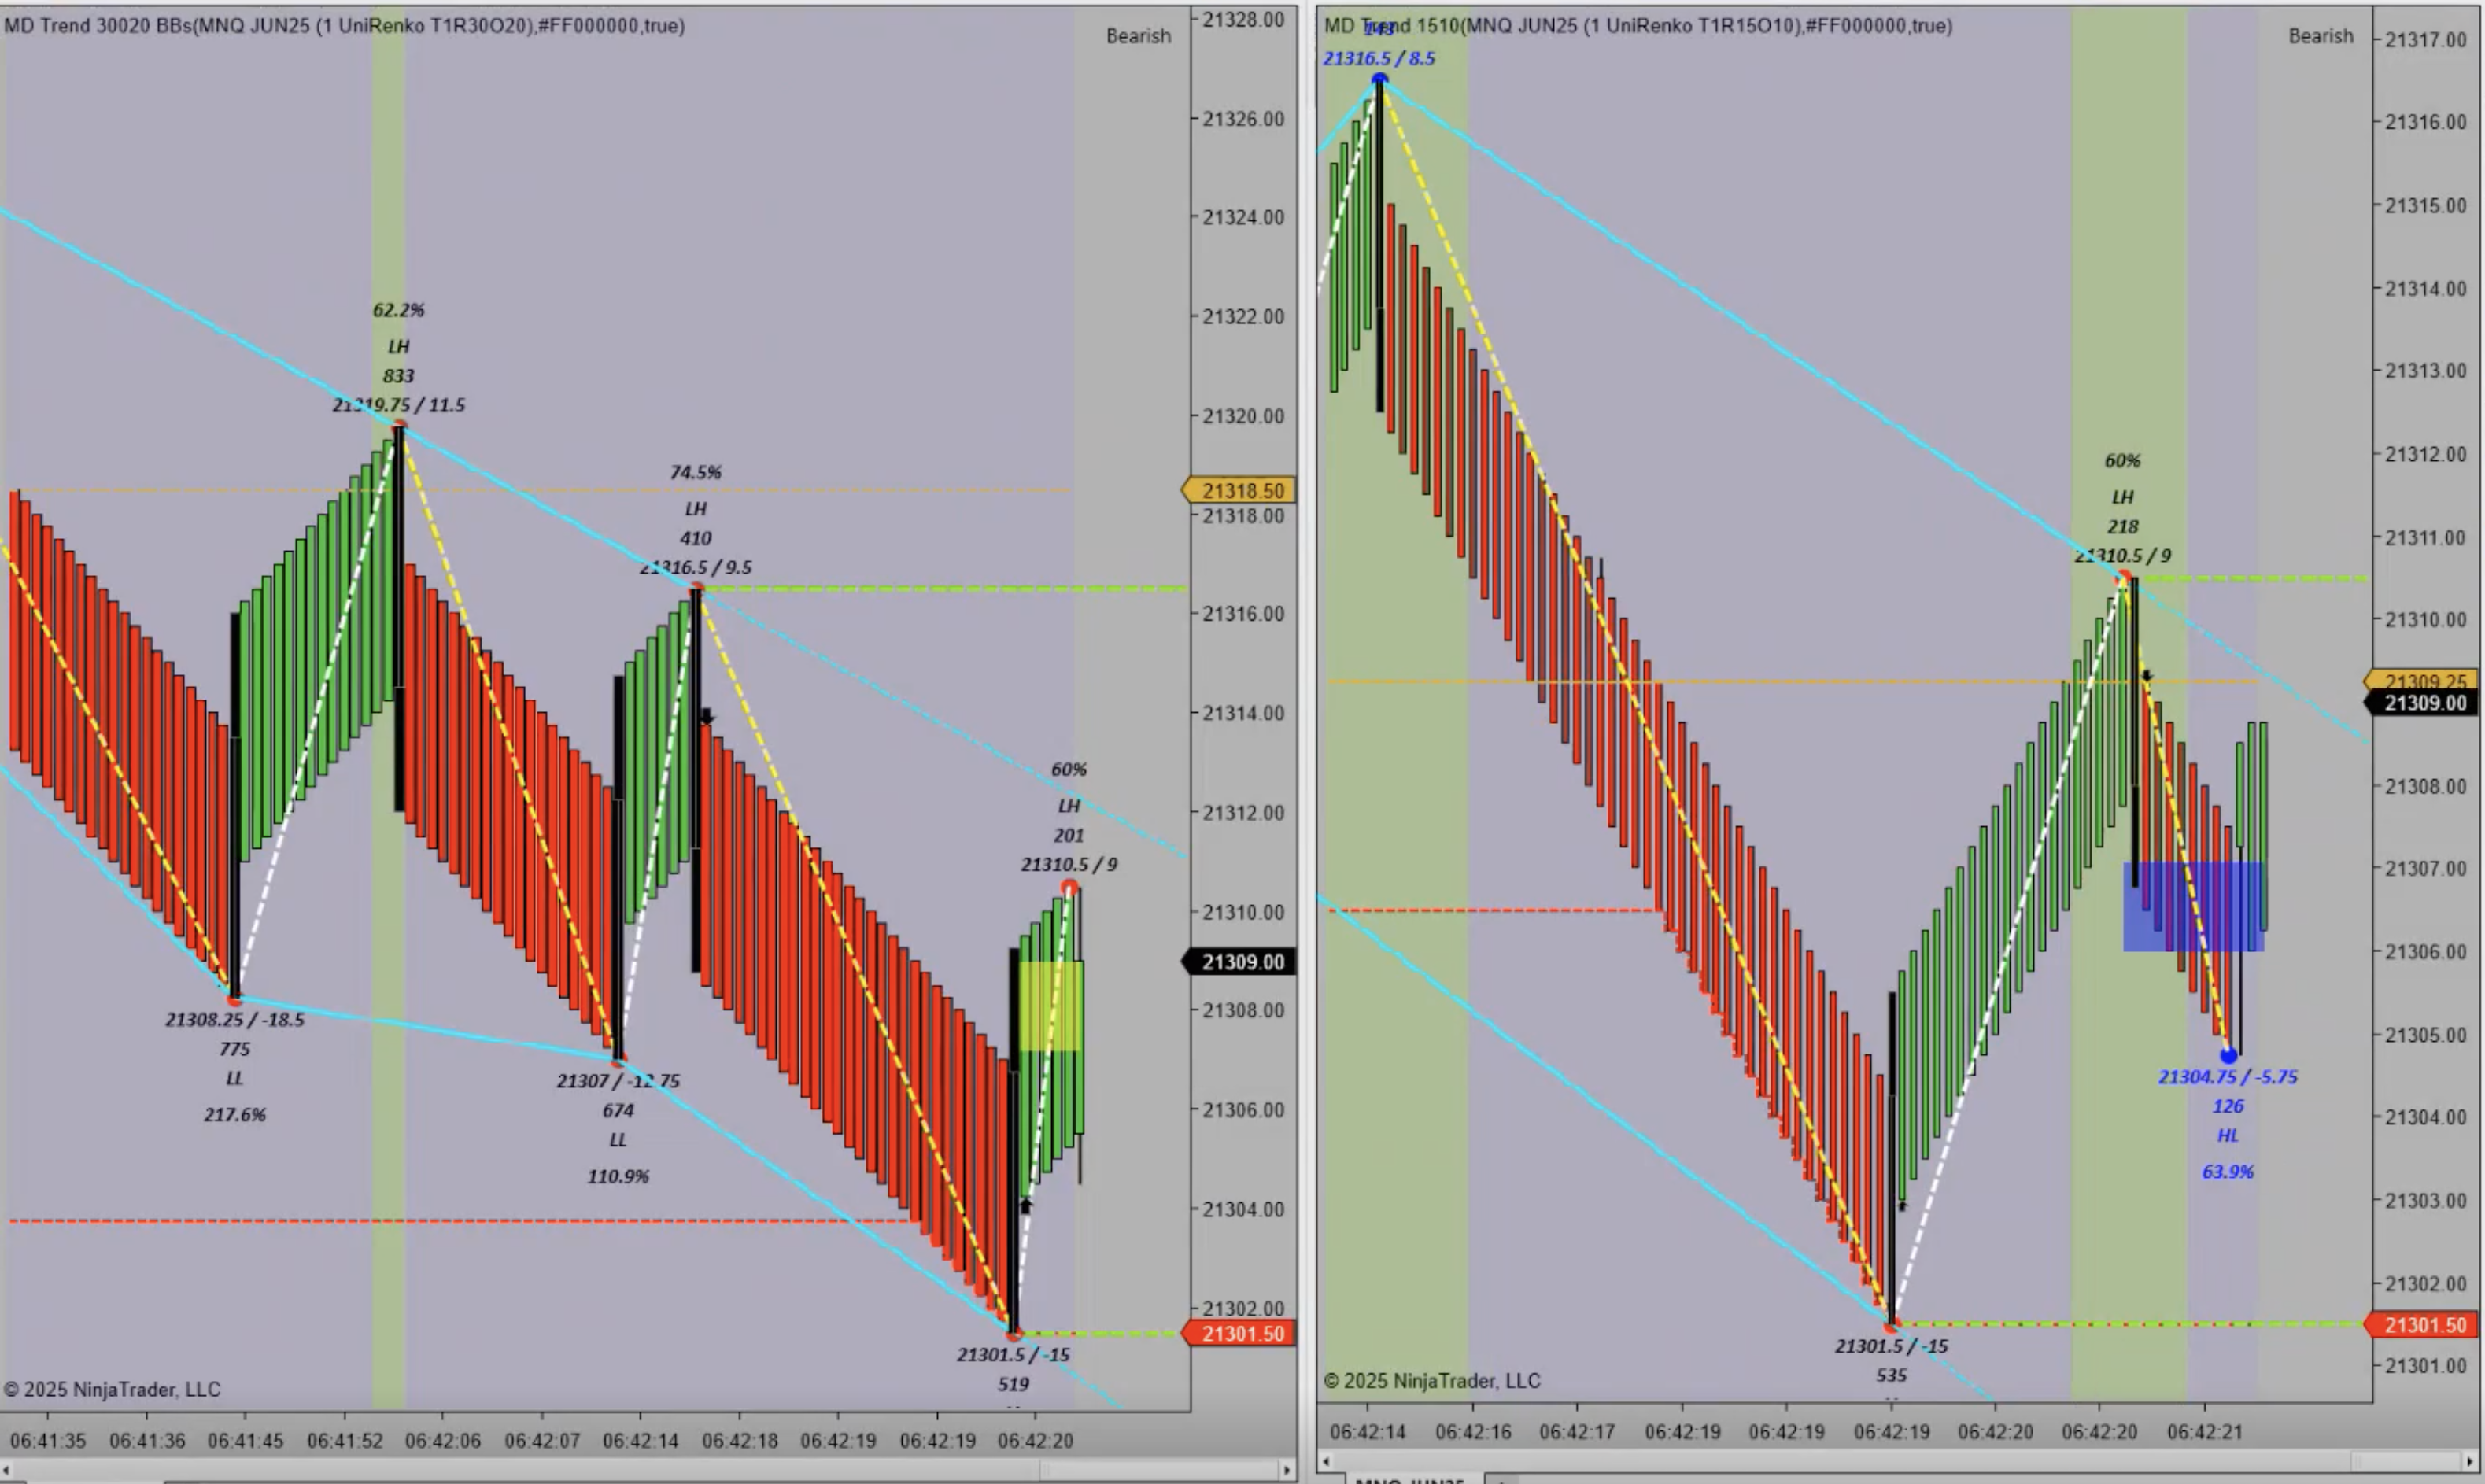candle: (1003, 943, 1026, 1327), (390, 417, 412, 823), (608, 670, 629, 1058), (687, 583, 706, 981), (226, 610, 245, 998), (2128, 578, 2149, 899), (1372, 78, 1390, 422), (1886, 988, 1900, 1316)
